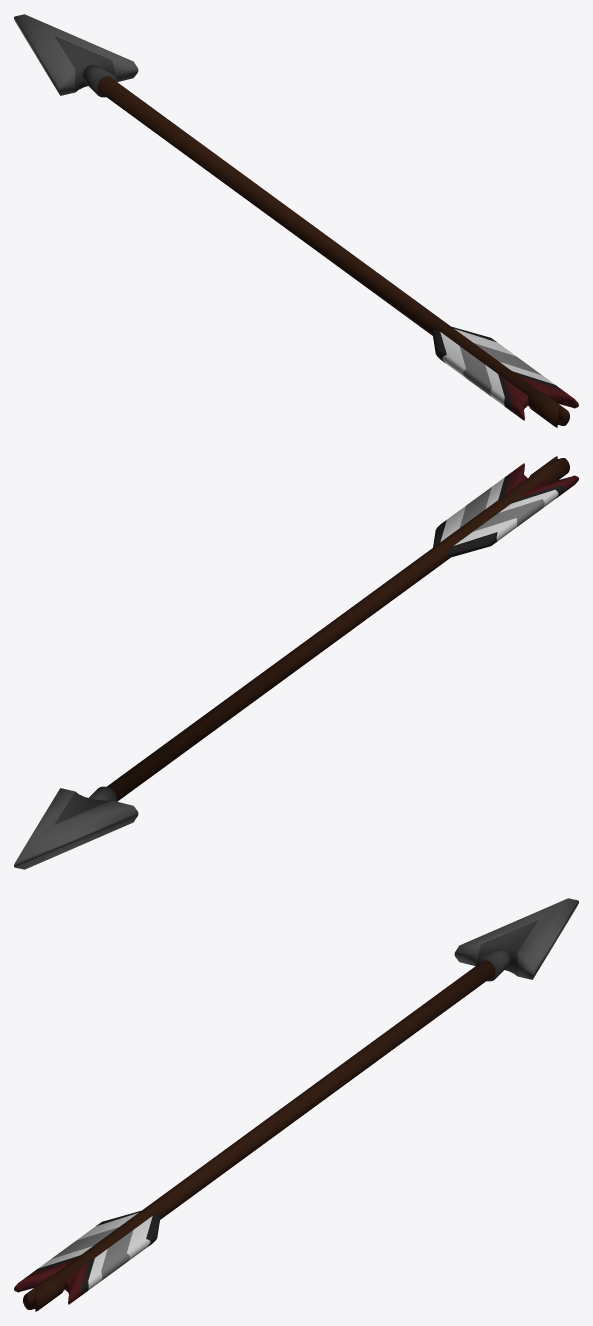
Rendered from Arrow.fbx.
3 renders of one model, top to bottom at view 1: azimuth 30°, elevation 25°; view 2: azimuth 150°, elevation 25°; view 3: azimuth 330°, elevation 25°, orthographic.
Parts seen in each view (by area): view 1: Arrow; view 2: Arrow; view 3: Arrow.
Boxes of the visible parts, x1,y1,x2,y2 form: Arrow: [14, 14, 578, 427]; Arrow: [14, 456, 578, 869]; Arrow: [14, 898, 578, 1311].
Bounding box in the file's own units: 1403 × 393 × 16751.
